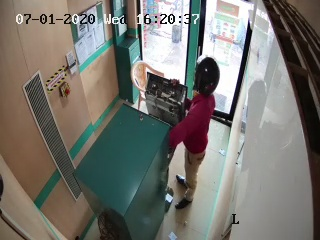helmet: (185, 53, 223, 102)
